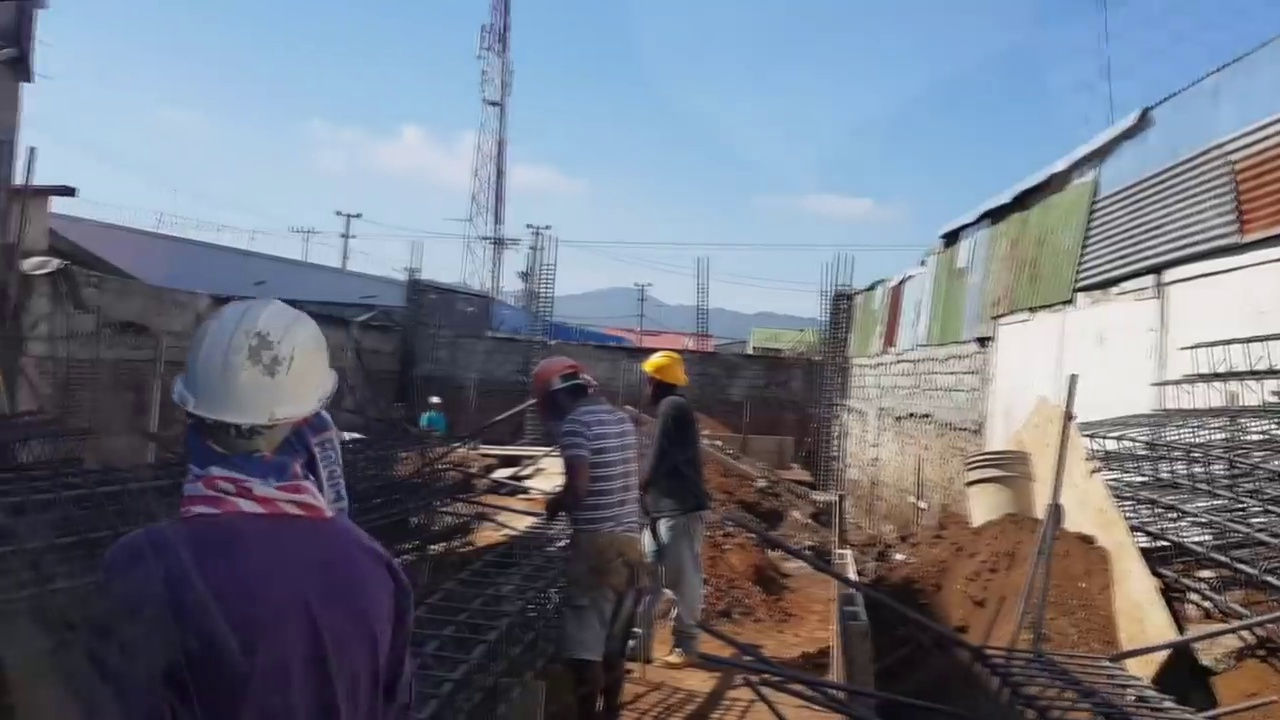helmet: (167, 289, 331, 420), (531, 356, 588, 400), (640, 349, 691, 388), (426, 396, 442, 407)
helmet-on: (166, 294, 342, 490), (532, 355, 598, 418), (642, 354, 691, 412), (426, 394, 444, 414)
person: (69, 267, 395, 699), (532, 355, 641, 699), (639, 350, 713, 670), (419, 393, 449, 442)
